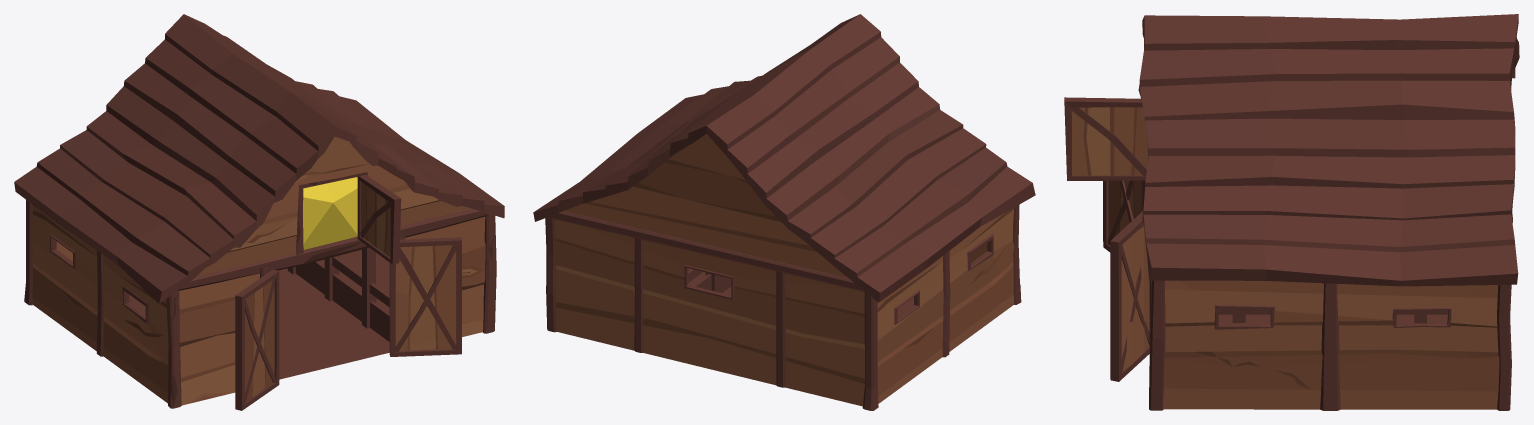
File: cowhouse_fixed.fbx
The picture shows the model from 3 angles, left to right: view 1: azimuth 30°, elevation 25°; view 2: azimuth 150°, elevation 25°; view 3: azimuth 270°, elevation 25°; orthographic projection. The views are drawn at different scales.
Visible parts, largest first — view 1: cow_hause, goal_right, goal_left, roof_dore; view 2: cow_hause; view 3: cow_hause, roof_dore, goal_right, goal_left.
Boxes of the visible parts, x1,y1,x2,y2 form: cow_hause: (14, 14, 504, 408); goal_right: (389, 237, 461, 356); goal_left: (235, 269, 279, 410); roof_dore: (357, 175, 401, 264); cow_hause: (533, 14, 1035, 410); cow_hause: (1138, 14, 1519, 410); roof_dore: (1064, 97, 1148, 180); goal_right: (1110, 211, 1149, 381); goal_left: (1103, 180, 1145, 252).
Bounding box in the file's own units: 4.17 × 2.8 × 3.85.
